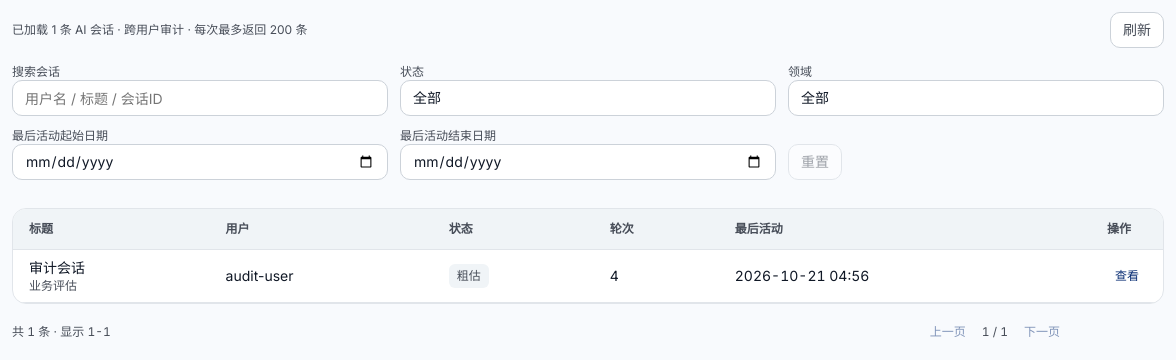
会话审计统一列表与只读详情 › 读取失败显式重试并保留服务端筛选，不显示旧成功列表
Expected: the table is shown, [13, 209, 1163, 302]
Step 1. Type "审计" into the search field named "会话搜索" → [200, 98], box [12, 80, 388, 116]
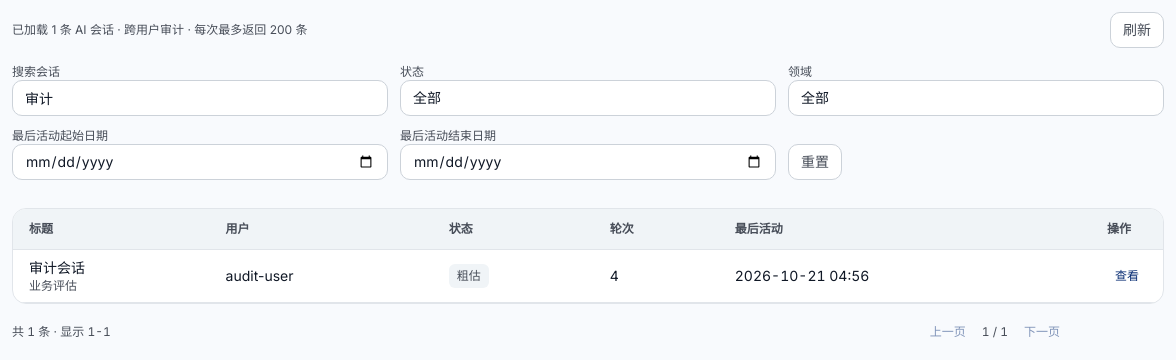
Expected: the table is shown, [13, 209, 1163, 302]
Step 2. Click the button "刷新" → [1137, 30], box [1110, 12, 1164, 48]
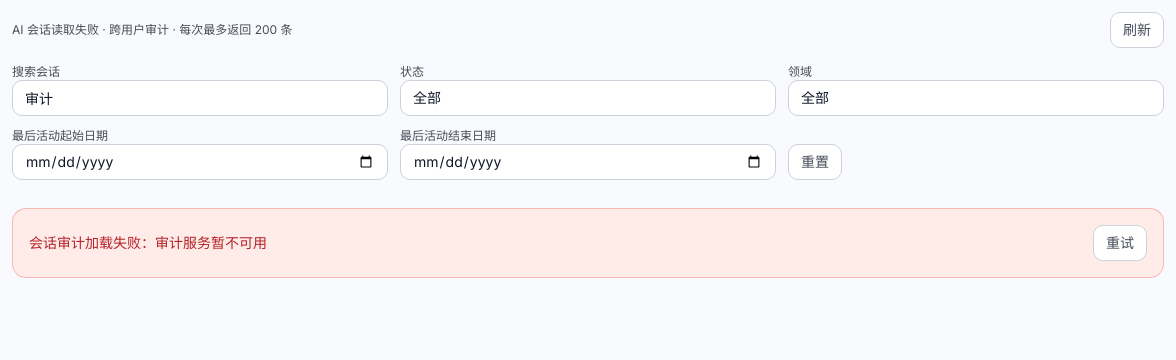
Expected: the message shows "审计服务暂不可用", [29, 234, 267, 251]
Expected: the table is gone
Step 3. Click the button "重试" → [1120, 243], box [1093, 225, 1147, 261]
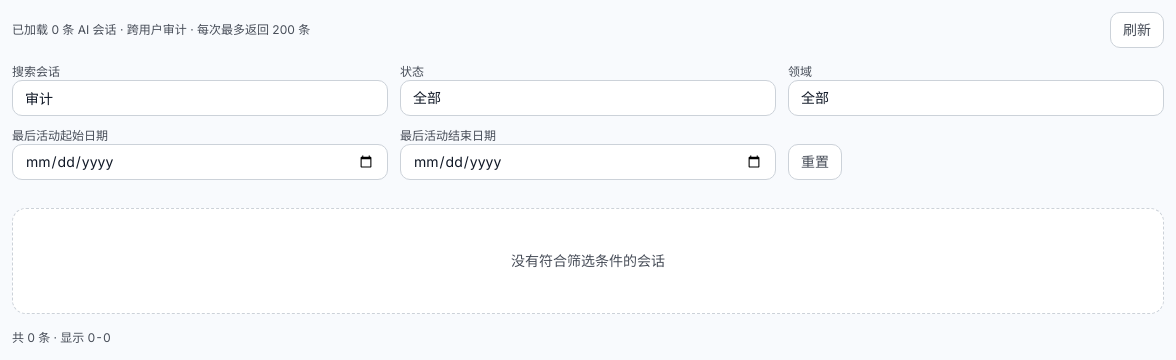
Expected: the text "没有符合筛选条件的会话" is shown, [12, 208, 1164, 314]
